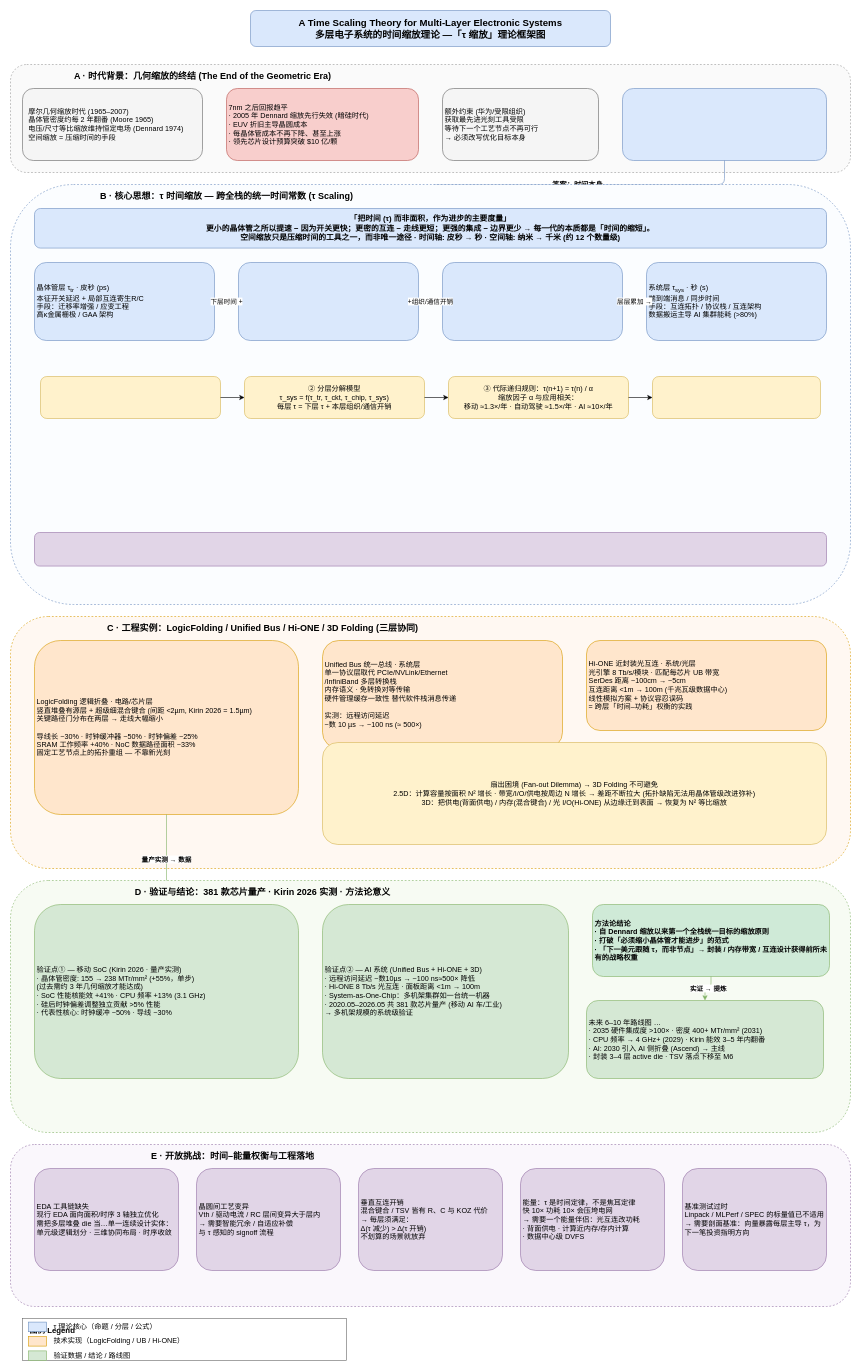
Image size: 861x1372. Some labels were removed from this diagram. Here are the shapes that lost their labels. From the top down, the centre of each, then its label:
(724,124): 核心问题已改变 不再是「晶体管还能缩小多少？」 而是「该缩放什么、以什么为目标？」
(328,301): 电路层 τ ckt · 纳秒 (ns) 信号路径 RC 传播延迟 手段：低电阻导体 / 低k电介质 垂直集成缩短导线 ← 逻辑折叠
(532,301): 芯片层 τ chip · 微秒 (µs) 计算 + 内存访问延迟 手段：架构选择 / 流水线深度 内存层次结构 / 片上互连 (NoC)
(130,397): ① 定义各层特征时间 τ 晶体管(ps) / 电路(ns) / 芯片(µs) / 系统(s) 覆盖约 12 个时间数量级
(736,397): ④ 跨层协同执行 + 时间-代价权衡 垂直互连非免费：每层须满足 Δ(τ 减少) > Δ(τ 开销)
(430,549): 同一度量 = 同一门语言：频率 / 延迟 / 带宽 / 吞吐量 均由 τ 支配 — 构成「工艺工程师 ↔ 电路设计师 ↔ 系统架构师」共同的全栈优化目标
